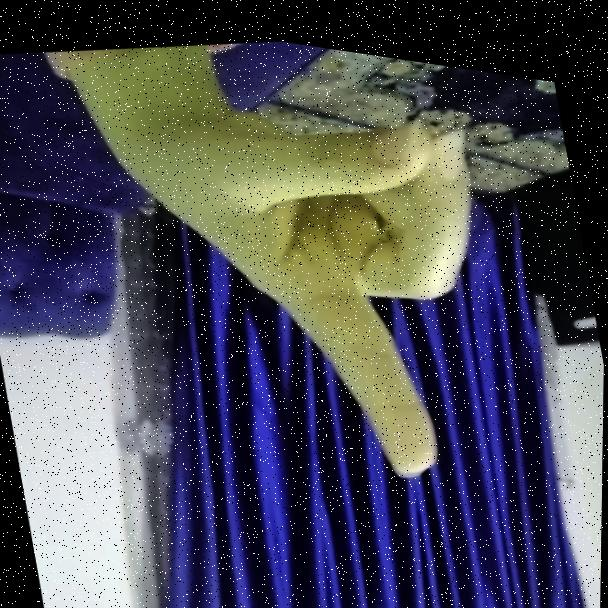one: (107, 13, 537, 524)
